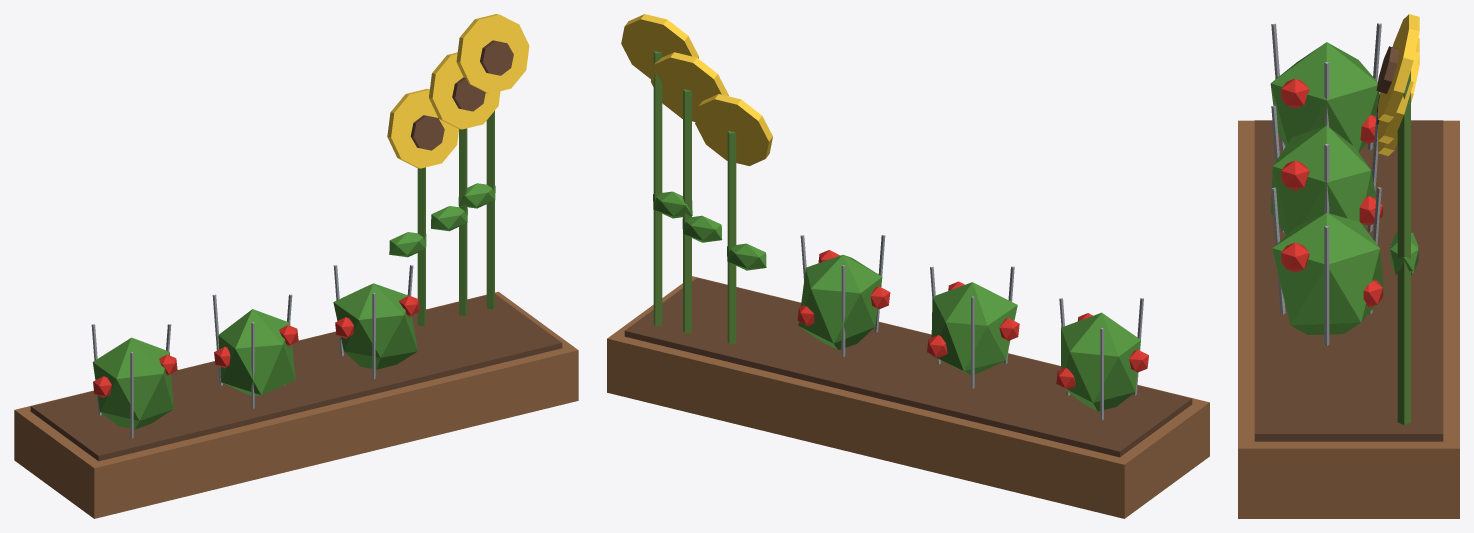
File: garden-bed.glb
The picture shows the model from 3 angles, left to right: view 1: azimuth 30°, elevation 25°; view 2: azimuth 150°, elevation 25°; view 3: azimuth 270°, elevation 25°; orthographic projection. The views are drawn at different scales.
Parts seen in each view (by area): view 1: GardenBed_Wood, GardenBed_Soil, GardenBed_Leaves, GardenBed_Petals, GardenBed_Stem, GardenBed_Cage, GardenBed_Tomato; view 2: GardenBed_Wood, GardenBed_Soil, GardenBed_Leaves, GardenBed_Petals, GardenBed_Stem, GardenBed_Tomato, GardenBed_Cage; view 3: GardenBed_Soil, GardenBed_Wood, GardenBed_Leaves, GardenBed_Stem, GardenBed_Cage, GardenBed_Petals, GardenBed_Tomato.
Boxes of the visible parts, x1,y1,x2,y2 form: GardenBed_Wood: (14, 291, 578, 518); GardenBed_Soil: (30, 40, 562, 461); GardenBed_Leaves: (92, 183, 495, 429); GardenBed_Petals: (387, 14, 529, 168); GardenBed_Stem: (417, 111, 494, 326); GardenBed_Cage: (91, 265, 413, 438); GardenBed_Tomato: (93, 295, 419, 397); GardenBed_Wood: (607, 276, 1209, 518); GardenBed_Soil: (624, 277, 1192, 457); GardenBed_Leaves: (653, 191, 1140, 411); GardenBed_Petals: (621, 14, 772, 166); GardenBed_Stem: (653, 51, 736, 344); GardenBed_Tomato: (797, 250, 1148, 389); GardenBed_Cage: (800, 235, 1143, 420); GardenBed_Soil: (1254, 46, 1443, 441); GardenBed_Wood: (1238, 120, 1459, 518); GardenBed_Leaves: (1270, 42, 1418, 334); GardenBed_Stem: (1397, 71, 1410, 424); GardenBed_Cage: (1271, 23, 1381, 346); GardenBed_Petals: (1378, 14, 1419, 155); GardenBed_Tomato: (1281, 78, 1382, 307).
Size of the model in its own units: 14.2 by 9.54 by 4.
